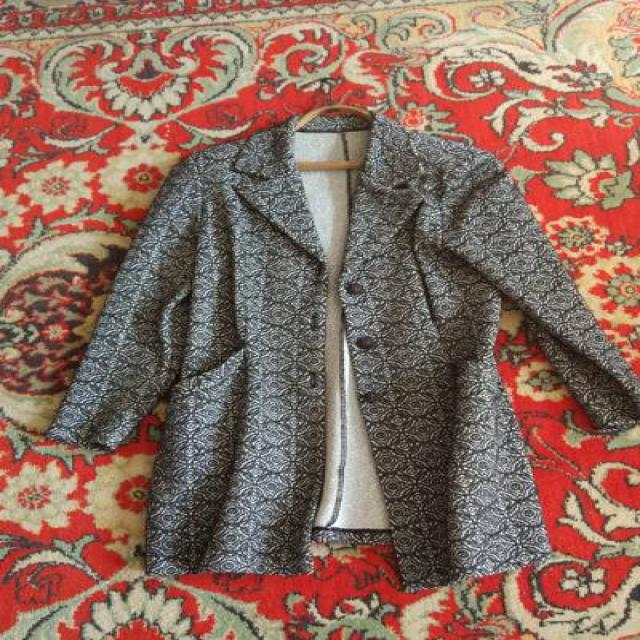Clothes -Biodegradable-: (45, 116, 640, 596)
